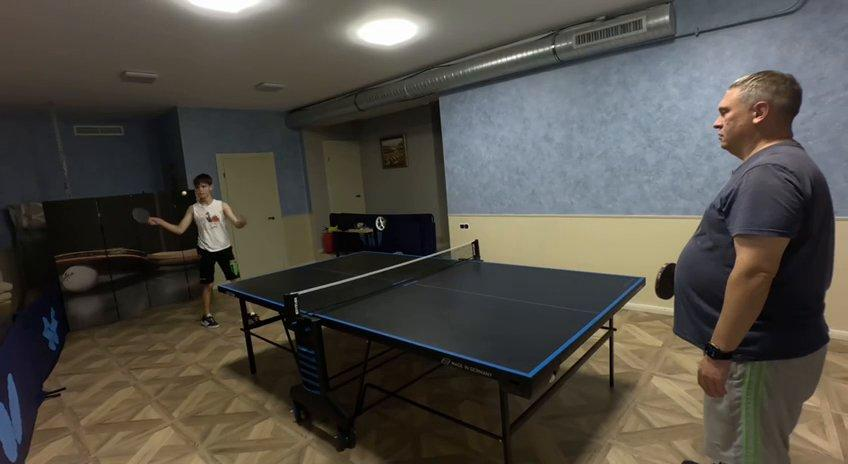Ball: (181, 189, 188, 198)
Net: (283, 240, 481, 321)
Player1: (187, 174, 244, 287)
Player2: (674, 71, 835, 463)
Table: (222, 253, 640, 377)
